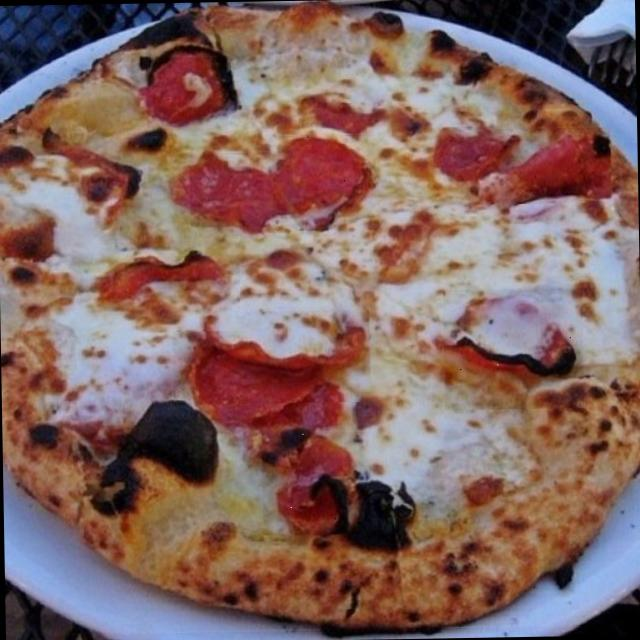pepperoni: (170, 310, 370, 405), (442, 288, 584, 410), (78, 240, 240, 334), (458, 126, 610, 204), (261, 431, 371, 535), (408, 108, 532, 196), (274, 134, 376, 231), (189, 152, 292, 228), (146, 57, 228, 136)
pizza: (0, 3, 640, 630)
